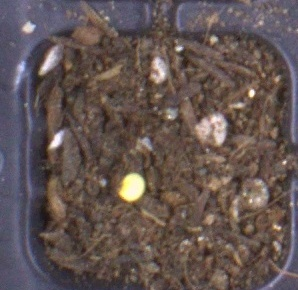chilli seed: (117, 172, 146, 204)
